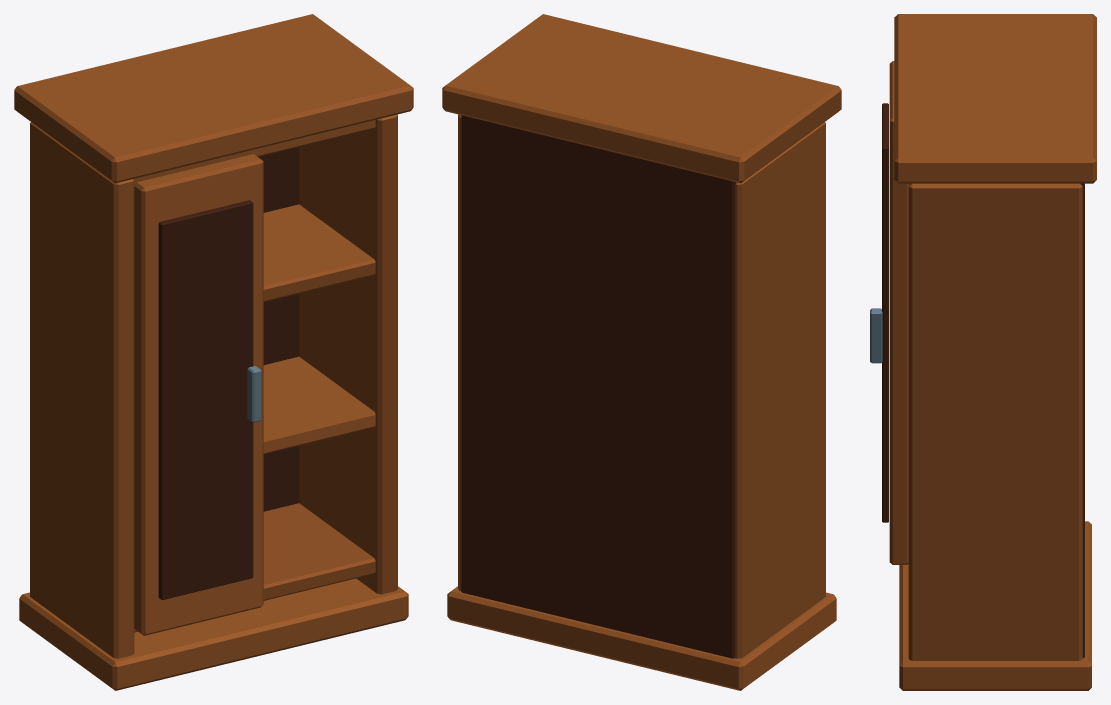
Rendered from EH_StorageCabinet.fbx.
3 renders of one model, left to right at view 1: azimuth 30°, elevation 25°; view 2: azimuth 150°, elevation 25°; view 3: azimuth 270°, elevation 25°, orthographic.
Parts seen in each view (by area): view 1: EH_StorageCabinet; view 2: EH_StorageCabinet; view 3: EH_StorageCabinet.
Part boxes in pixels (left/top/right/bottom): EH_StorageCabinet: left=14, top=14, right=413, bottom=690; EH_StorageCabinet: left=442, top=14, right=841, bottom=690; EH_StorageCabinet: left=870, top=14, right=1096, bottom=690.
Bounding box in the file's own units: 1.1 × 1.87 × 0.717.
